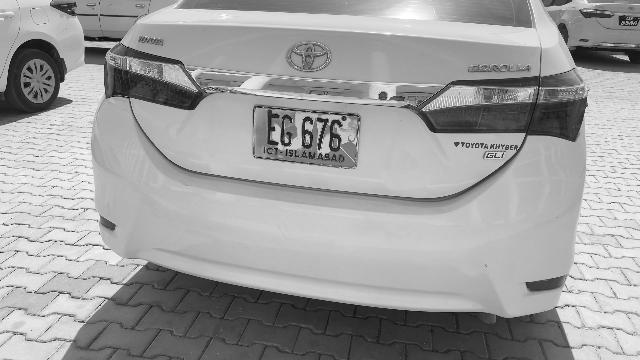Number: (265, 112, 344, 152)
